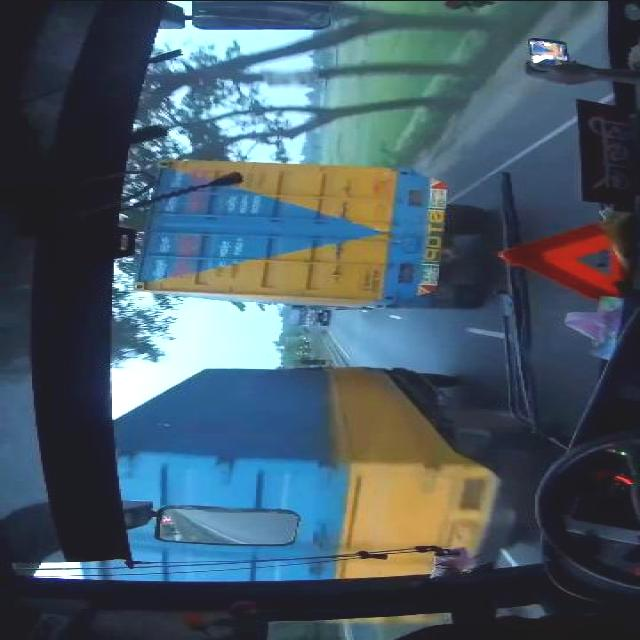truck: (134, 365, 534, 570), (151, 156, 487, 309), (286, 307, 328, 324)
